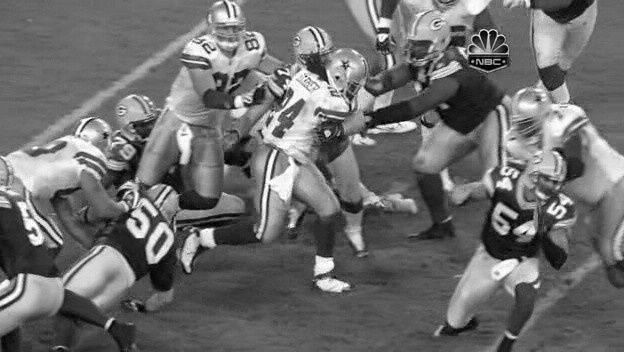person: (331, 51, 366, 96), (330, 51, 365, 96), (332, 51, 367, 96), (331, 50, 366, 95), (331, 52, 366, 97)
target_negative: (133, 59, 259, 282), (340, 234, 543, 328), (281, 240, 514, 313), (127, 282, 363, 290), (44, 267, 55, 308), (603, 331, 605, 347)
